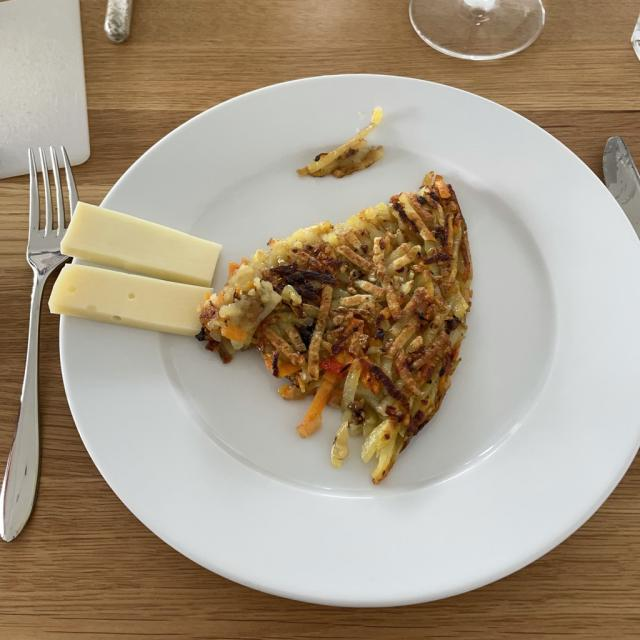cheese: (51, 209, 218, 332)
